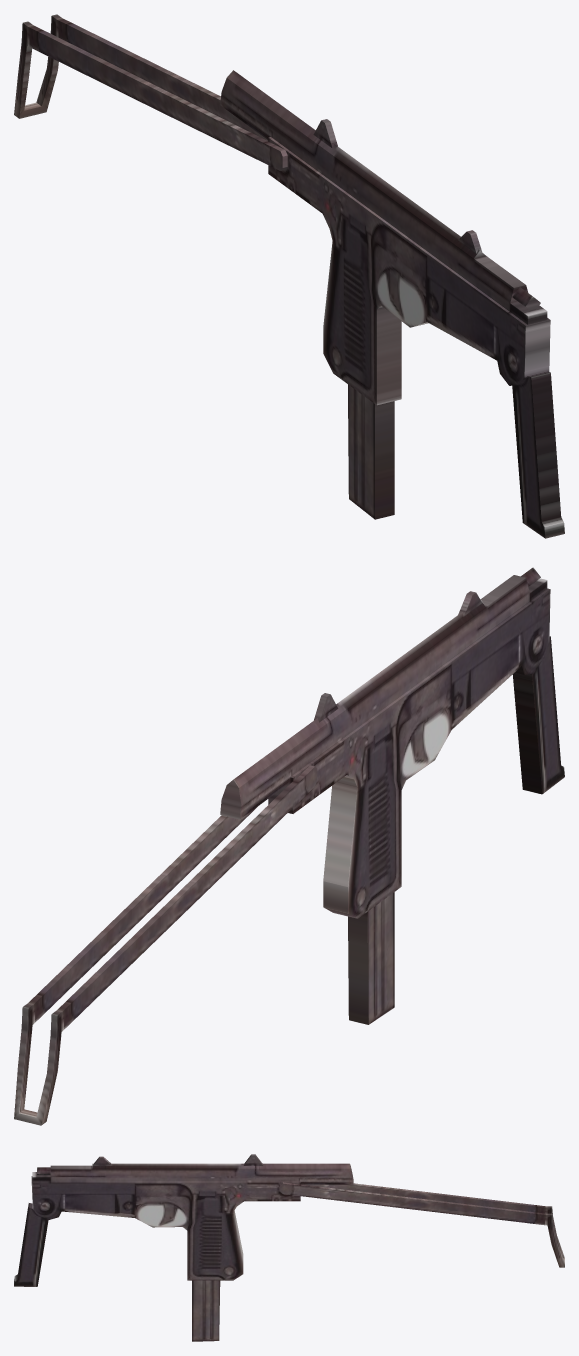
File: PM63_RAk.FBX
3 views of the same model, one above another, from view 1: azimuth 30°, elevation 25°; view 2: azimuth 150°, elevation 25°; view 3: azimuth 270°, elevation 25° (orthographic). The views are drawn at different scales.
Parts seen in each view (by area): view 1: PM63 RAk; view 2: PM63 RAk; view 3: PM63 RAk.
Boxes of the visible parts, left/top/right/bottom form: PM63 RAk: left=14, top=14, right=564, bottom=538; PM63 RAk: left=14, top=567, right=564, bottom=1125; PM63 RAk: left=14, top=1154, right=564, bottom=1341.
Size of the model in its own units: 0.6521 by 6.37 by 17.24.
